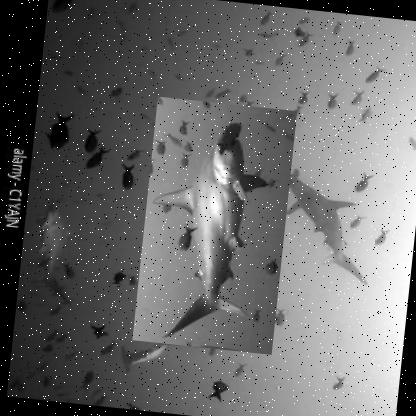hammerhead_Shark: (130, 96, 296, 355)
